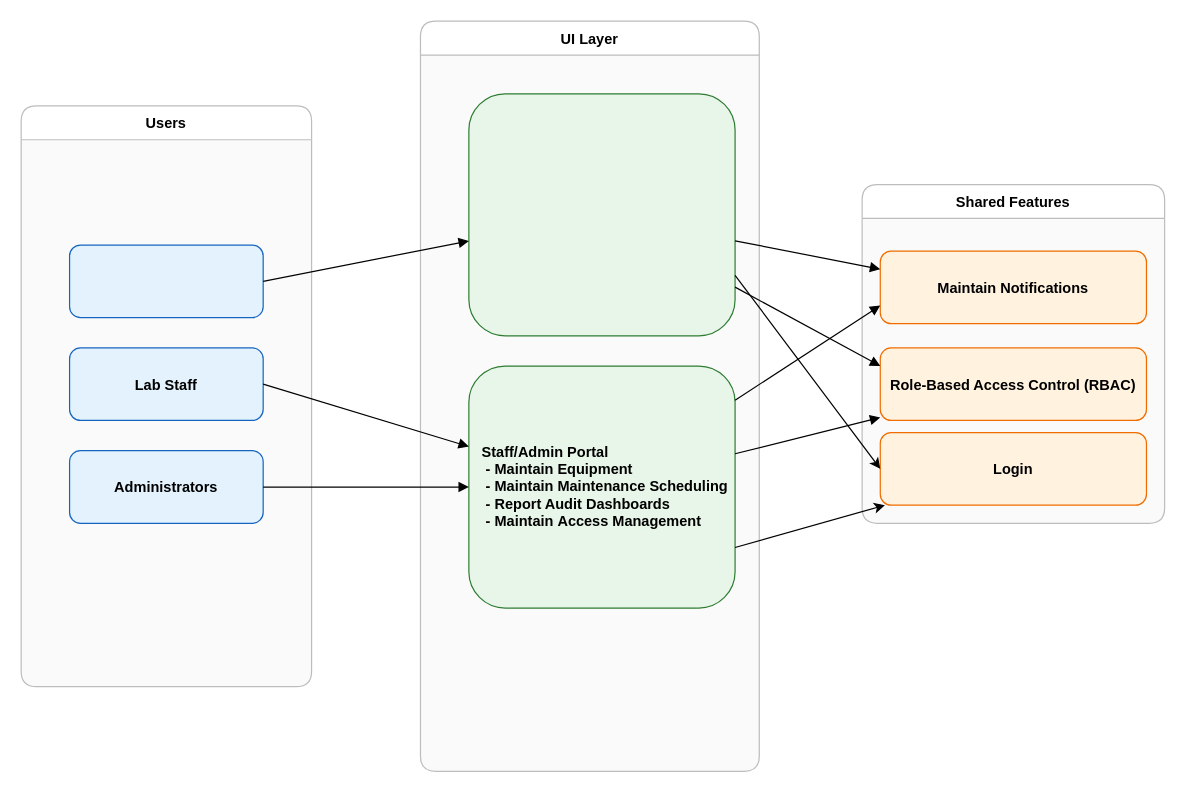
Some shapes in this 1186 by 793 pixel diagram are drawn without their labels. The shapes that lost their labels are listed below. From the top down, each one's centre as x and y in pixels, then its label:
pixel 601 214: Student Portal - Maintain Bookings
pixel 165 281: Students
